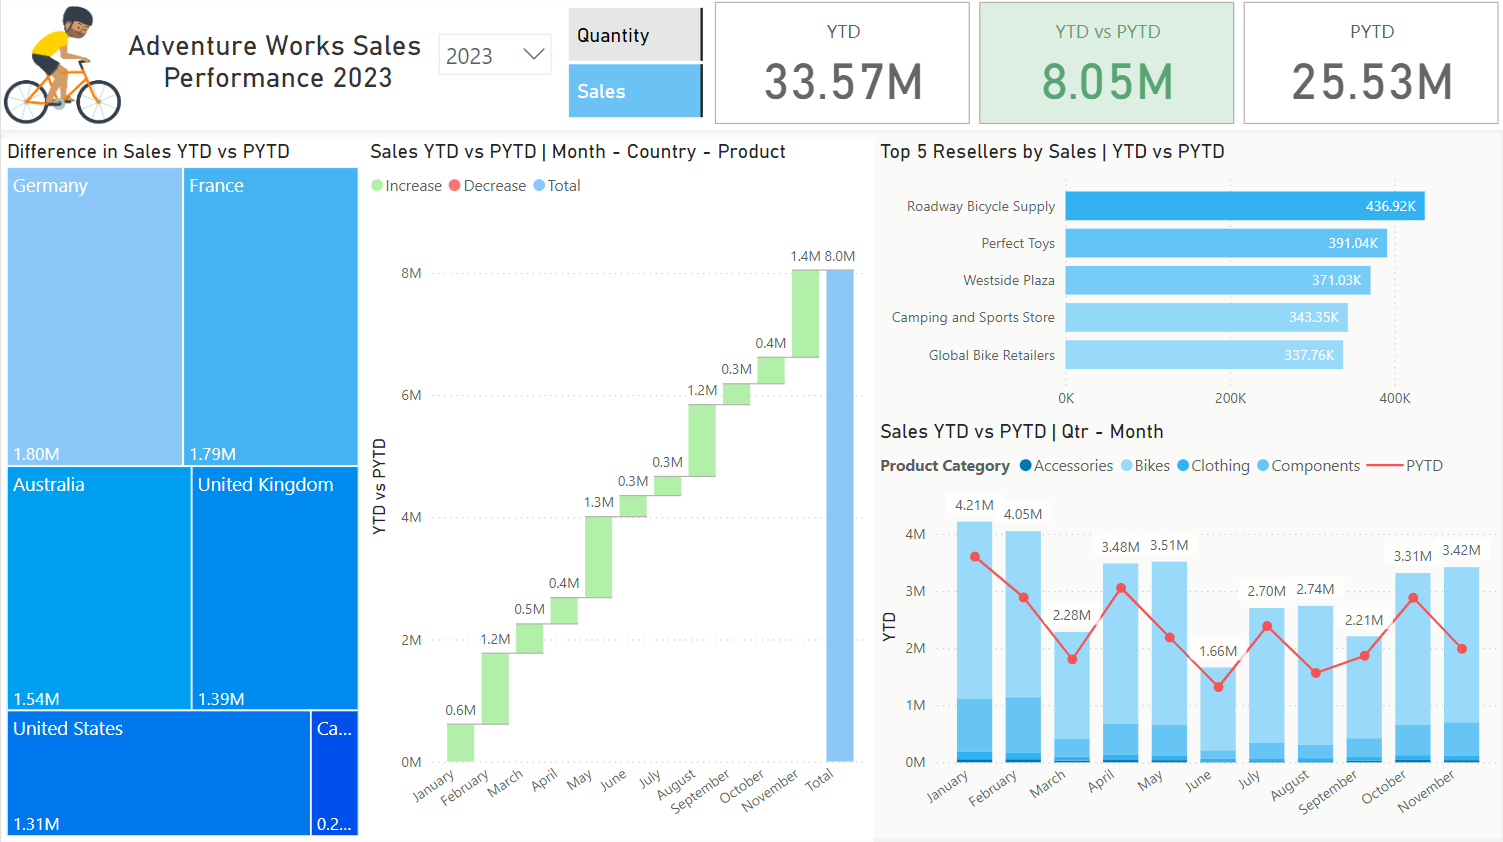

The dashboard page shown, as its layout file describes it:
{"tool":"powerbi","page":{"name":"Page 1","canvas":[1280,720],"ordinal":0},"visuals":[{"type":"shape","box":[0,113.8,1280,606],"z":0},{"type":"cardVisual","fields":{"Data":["_Measures.Switch_YTD","_Measures.YTD vs PYTD","_Measures.Switch_PYTD"]},"box":[602.7,0,677.3,114.2],"z":1000},{"type":"slicer","fields":{"Values":["Dim_Date.Date.Variation.Date Hierarchy.Year"]},"box":[362.3,22.4,116.4,63.8],"z":2000},{"type":"treemap","fields":{"Group":["Dim_Resellers.Country"],"Values":["_Measures.YTD vs PYTD"]},"box":[0,121.7,308.9,598.3],"z":3000},{"type":"waterfallChart","fields":{"Y":["_Measures.YTD vs PYTD"],"Category":["Dim_Date.Date.Variation.Date Hierarchy.Month","Dim_Resellers.Country","Dim_Products.ProductCategory","Dim_Products.ProductSubcategory"]},"box":[309.3,121.6,433.8,598.2],"z":4000},{"type":"lineStackedColumnComboChart","fields":{"Y":["_Measures.Switch_YTD"],"Y2":["_Measures.Switch_PYTD"],"Category":["Dim_Date.Date.Variation.Date Hierarchy.Quarter","Dim_Date.Date.Variation.Date Hierarchy.Month"],"Series":["Dim_Products.ProductCategory"]},"box":[742.6,359.7,537.4,360.5],"z":5000},{"type":"advancedSlicerVisual","fields":{"Values":["Slicer_Values.Values"]},"box":[478.7,5.2,124.2,103.5],"z":7000},{"type":"card","fields":{"Values":["_Measures.Title"]},"box":[95.7,0,275.1,108.7],"z":8000},{"type":"actionButton","box":[0,7.8,101.8,100.9],"z":9000},{"type":"clusteredBarChart","fields":{"Category":["Dim_Resellers.ResellerName"],"Y":["_Measures.YTD vs PYTD"]},"box":[743.1,121.6,536.9,238.3],"z":10000}]}

Visuals, with their boxes in screenshot pixels (x1, y1, x2, y2), scaled from the page's 1280x720 canvas onto the 1503x842 screenshot:
shape: 0/133/1502/841
cardVisual - _Measures.Switch_YTD x _Measures.YTD vs PYTD: 708/0/1502/134
slicer - Dim_Date.Date.Variation.Date Hierarchy.Year: 425/26/562/101
treemap - Dim_Resellers.Country x _Measures.YTD vs PYTD: 0/142/363/841
waterfallChart - _Measures.YTD vs PYTD x Dim_Date.Date.Variation.Date Hierarchy.Month: 363/142/873/841
lineStackedColumnComboChart - _Measures.Switch_YTD x _Measures.Switch_PYTD: 872/421/1502/841
advancedSlicerVisual - Slicer_Values.Values: 562/6/708/127
card - _Measures.Title: 112/0/435/127
actionButton: 0/9/120/127
clusteredBarChart - Dim_Resellers.ResellerName x _Measures.YTD vs PYTD: 873/142/1502/421
